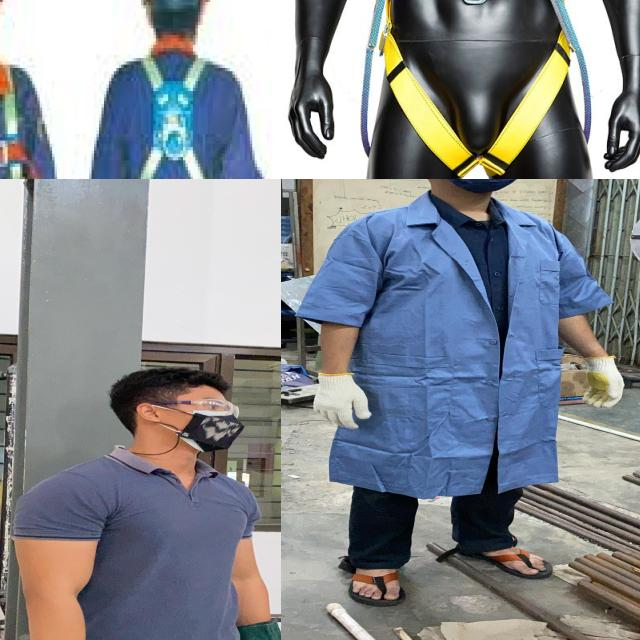Harness: (362, 0, 579, 179), (120, 54, 230, 179)
face_mask: (172, 395, 250, 449), (438, 179, 525, 191)
glasses: (143, 395, 243, 420)
hand_glove: (301, 367, 382, 430), (562, 354, 640, 412)
head_nohelmet: (108, 364, 234, 402)
person: (305, 179, 624, 616), (10, 362, 281, 640)
